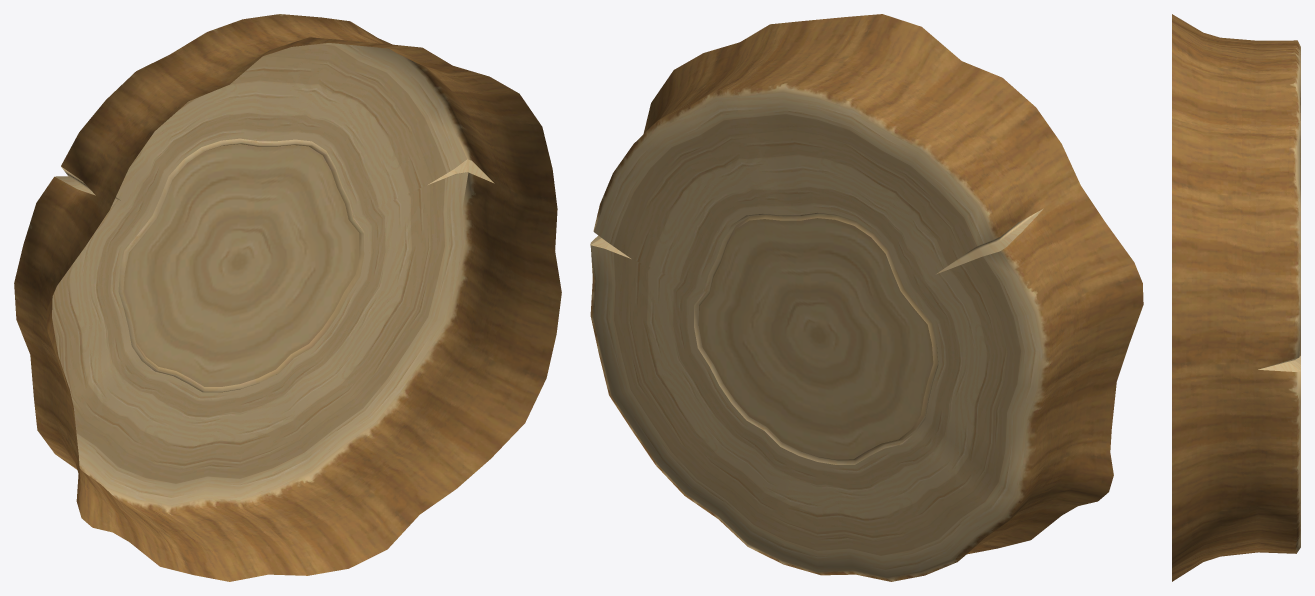
File: TreeStump.FBX
3 renders of one model, left to right at view 1: azimuth 30°, elevation 25°; view 2: azimuth 150°, elevation 25°; view 3: azimuth 270°, elevation 25°, orthographic. The views are drawn at different scales.
Visible parts, largest first — view 1: ViewPoint__BigTreeWoodC, ViewPoint__BigTreeWoodA; view 2: ViewPoint__BigTreeWoodC, ViewPoint__BigTreeWoodA; view 3: ViewPoint__BigTreeWoodA, ViewPoint__BigTreeWoodC.
Boxes of the visible parts, <box> form: ViewPoint__BigTreeWoodC: <box>52,43,494,505</box>; ViewPoint__BigTreeWoodA: <box>14,14,561,581</box>; ViewPoint__BigTreeWoodC: <box>590,92,1043,577</box>; ViewPoint__BigTreeWoodA: <box>590,14,1143,581</box>; ViewPoint__BigTreeWoodA: <box>1172,14,1300,581</box>; ViewPoint__BigTreeWoodC: <box>1258,71,1300,546</box>.
Bounding box in the file's own units: 662 × 665 × 150.
